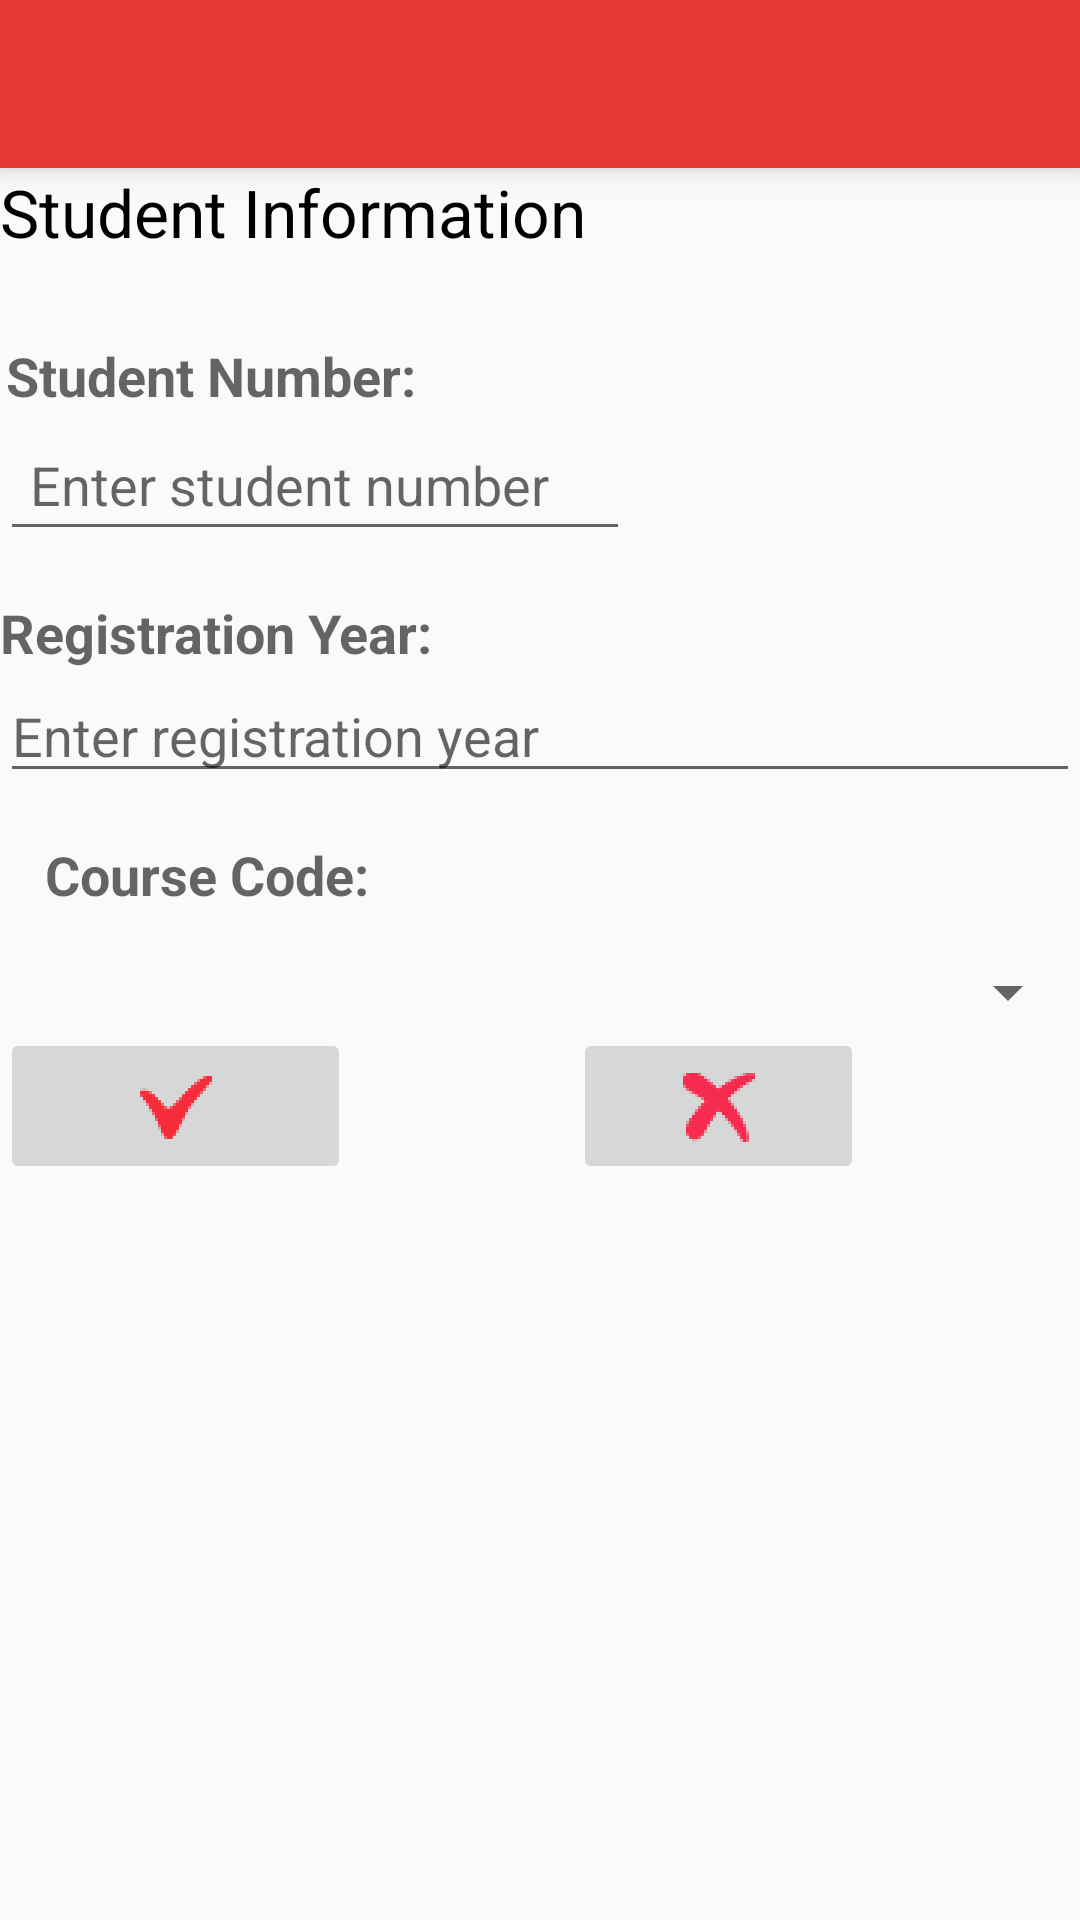

Icon click points for this 1080×1920 phone screenshot, format point (x, y):
cancel: point (718, 1106)
save: point (175, 1106)
